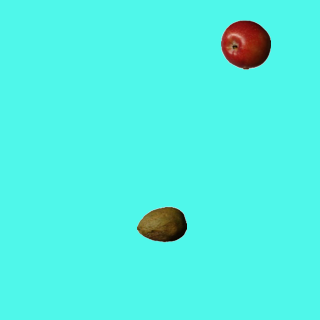Apple Braeburn: (220, 19, 270, 69)
Papaya: (136, 199, 186, 249)
